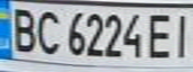2: (81, 9, 106, 58), (103, 10, 127, 60)
4: (121, 9, 148, 60)
6: (63, 8, 87, 57)
B: (6, 3, 39, 54)
C: (33, 7, 63, 55)
E: (145, 10, 178, 60)
I: (169, 10, 193, 60)
